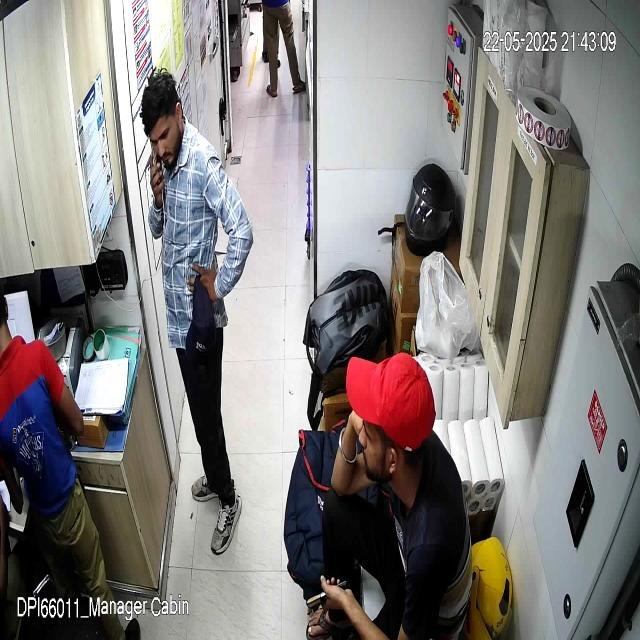helmet: (403, 164, 456, 257)
no_helmet: (344, 352, 434, 504), (141, 70, 185, 175)
